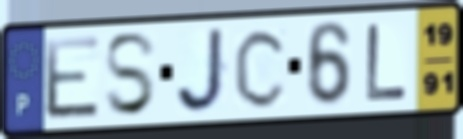6: (304, 19, 354, 110)
C: (231, 25, 290, 111)
E: (42, 33, 103, 122)
J: (173, 25, 230, 117)
L: (364, 21, 411, 104)
S: (102, 29, 160, 120)
